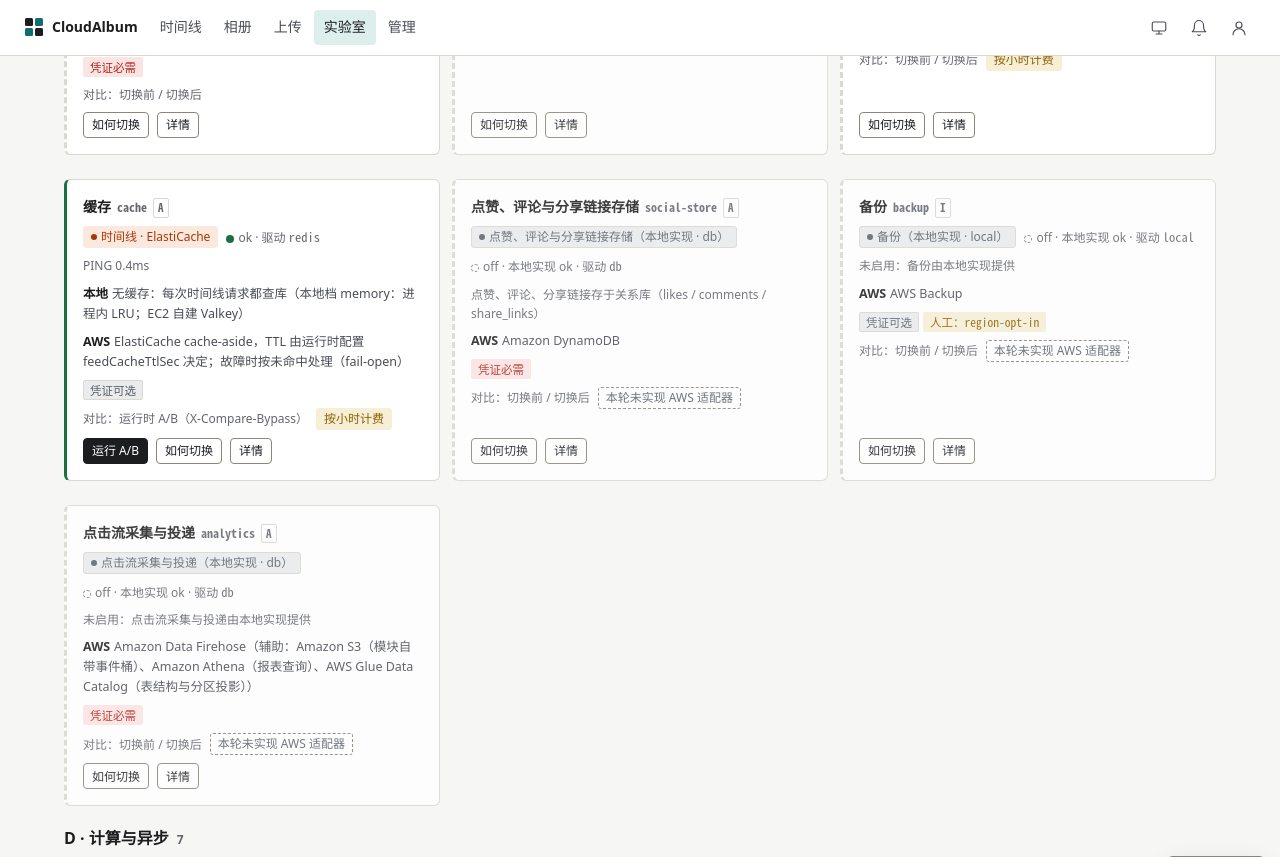
Test case: /lab › 管理员：已启用且有旁路键的模块出现“运行 A/B”，A/B 运行器交替发送带 / 不带旁路头的请求
(page scrolled)
Click the button "运行 A/B": (116, 450) [83,438,148,464]
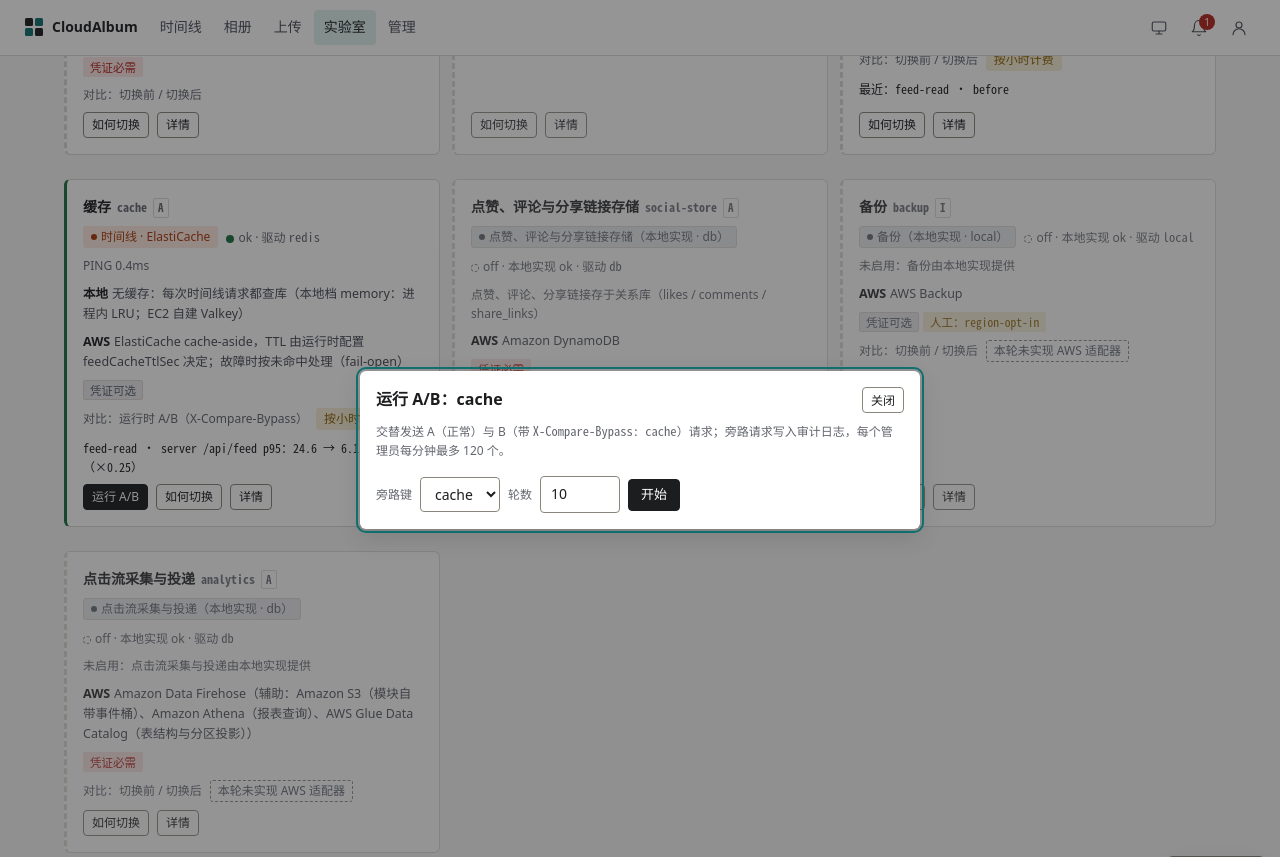
Replace the text in the number field labelled "轮数" with "2": (580, 495) [540,476,620,513]
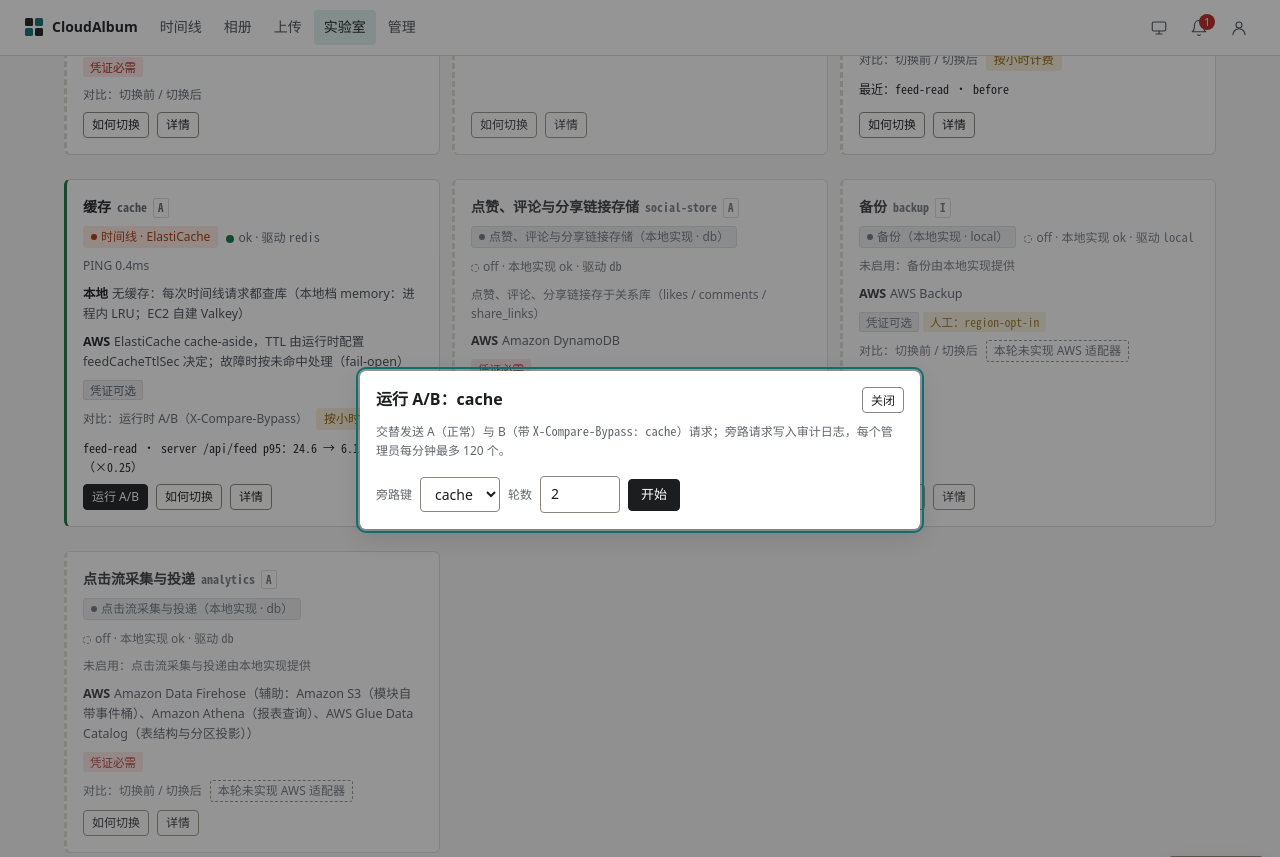
Click the button "开始": (654, 495) [628,479,680,511]
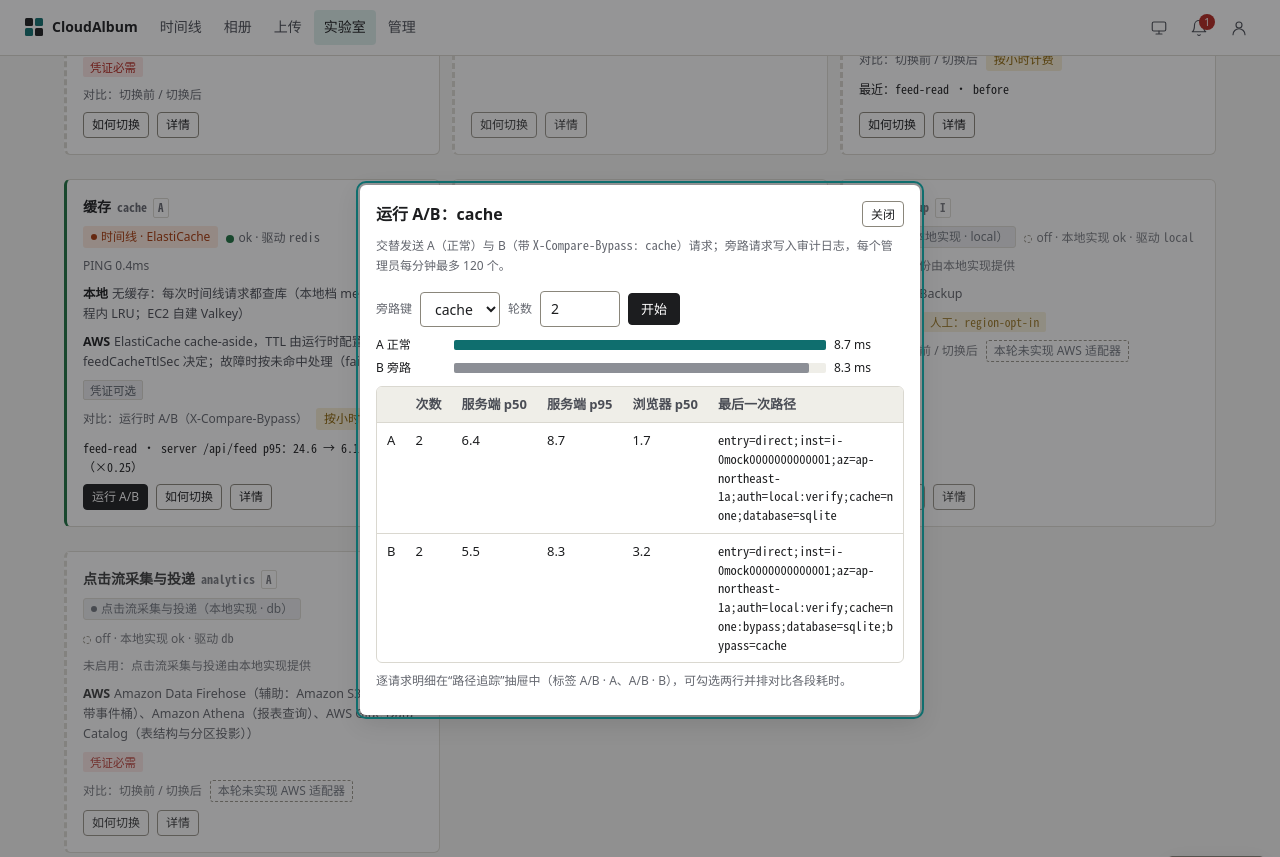
Expected: the table is shown, [377,387,903,662]
Expected: the text "bypass=cache" is shown, [718,541,893,654]
